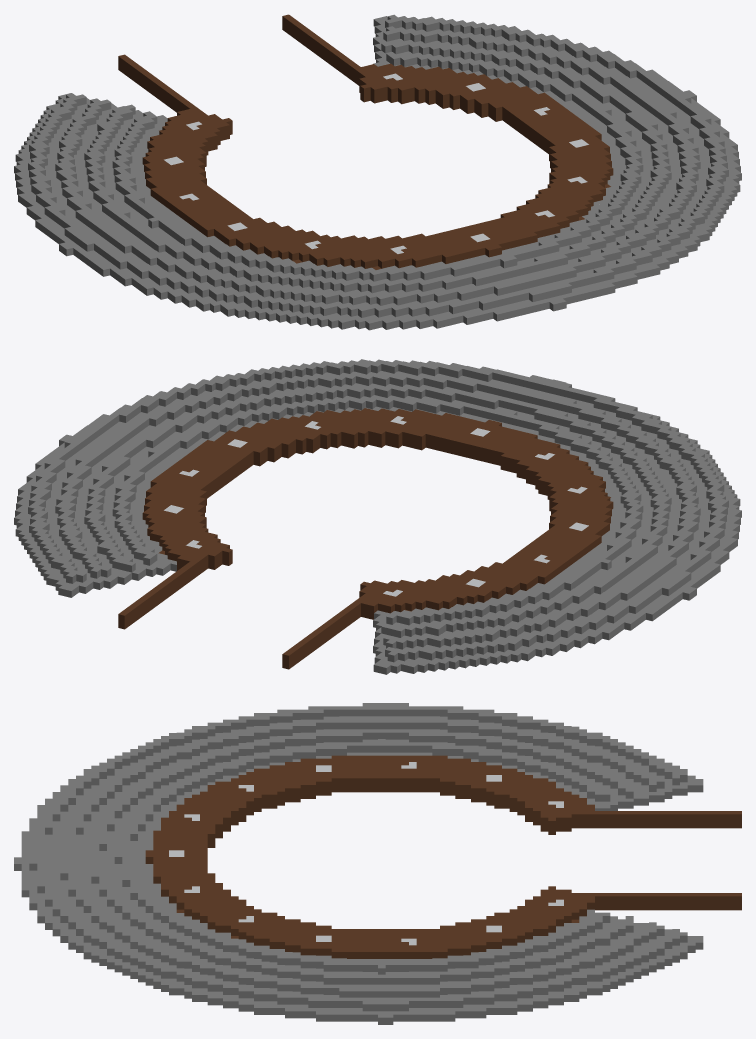
Rendered from lc_chainmail_face.glb.
3 renders of one model, top to bottom at view 1: azimuth 30°, elevation 25°; view 2: azimuth 150°, elevation 25°; view 3: azimuth 270°, elevation 25°, orthographic. The views are drawn at different scales.
Parts seen in each view (by area): view 1: lc_chainmail_face:compound; view 2: lc_chainmail_face:compound; view 3: lc_chainmail_face:compound.
Part boxes in pixels (x1,y1,x2,y2): lc_chainmail_face:compound: (14,14,741,330); lc_chainmail_face:compound: (14,359,741,674); lc_chainmail_face:compound: (14,703,741,1024).
Size of the model in its own units: 0.384 by 0.008 by 0.376.
